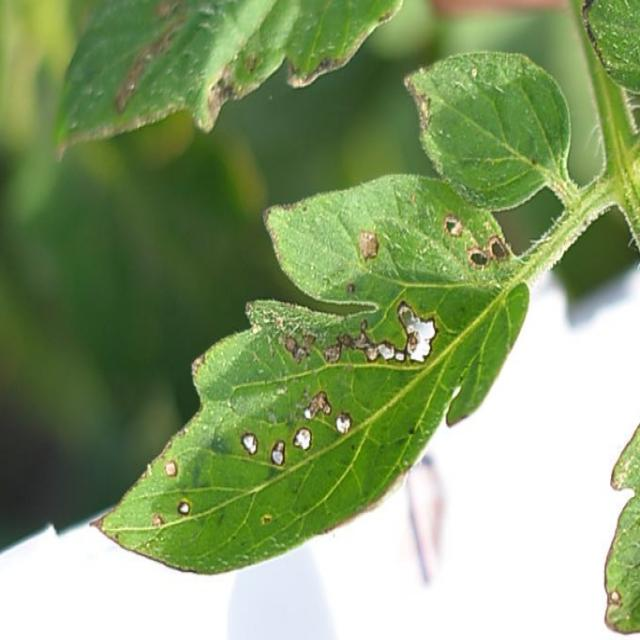infected: (141, 190, 512, 540), (104, 1, 396, 132), (599, 444, 640, 639)
